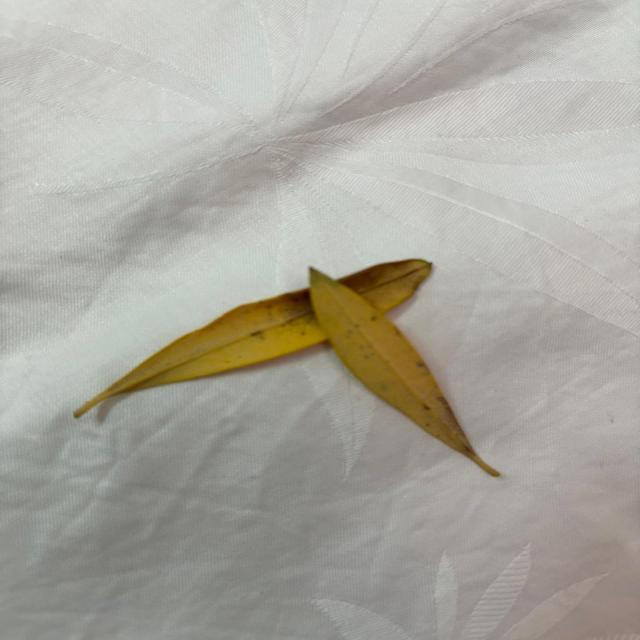OlivePeacockSpot: (310, 269, 498, 477)
